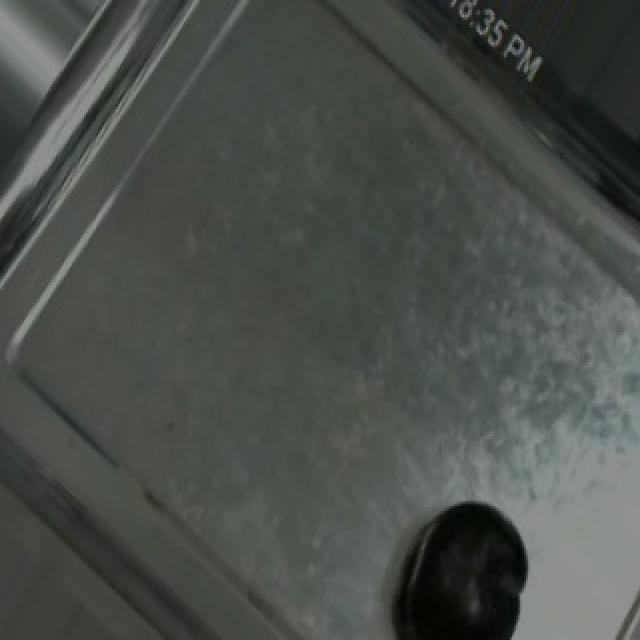Fruit: (390, 481, 548, 640)
